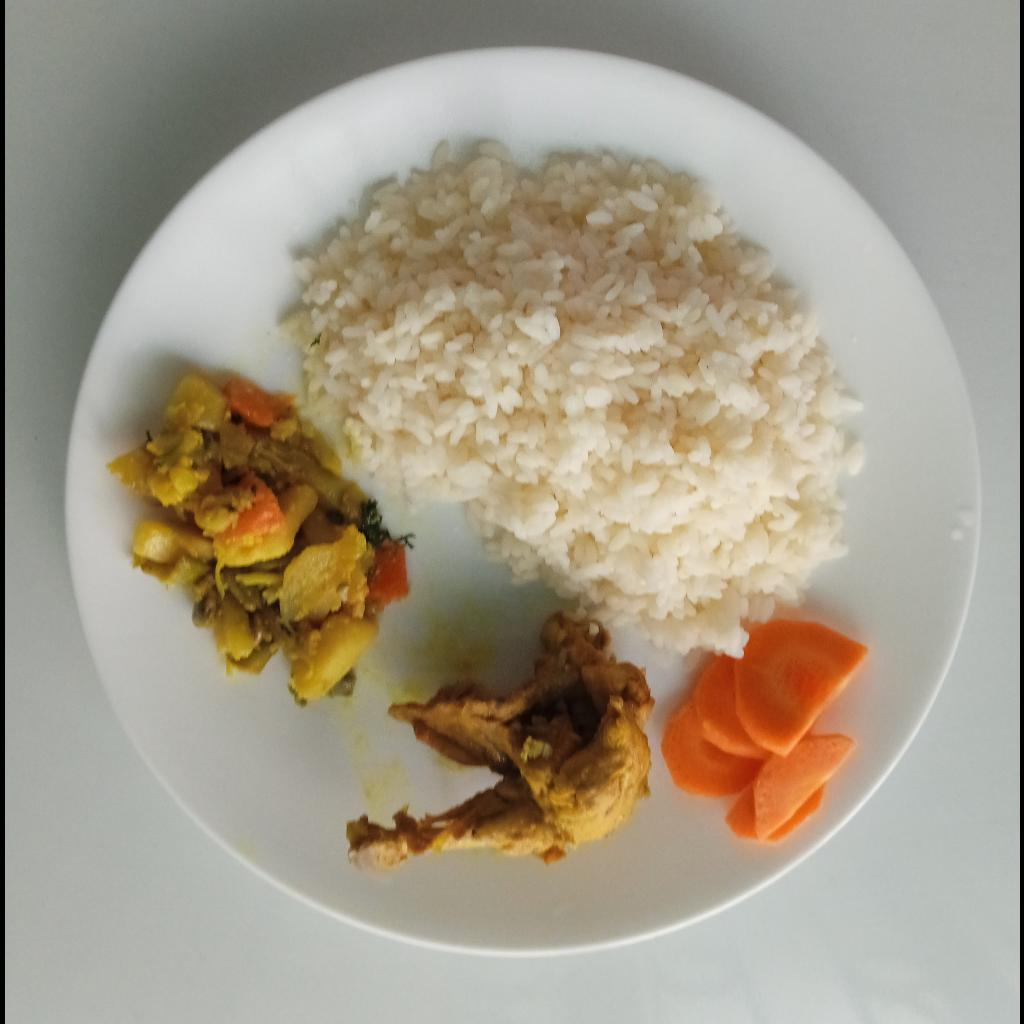carrot: (659, 619, 869, 846)
chicken: (346, 610, 657, 869)
rice: (277, 139, 869, 675)
vegetable: (103, 368, 408, 708)
